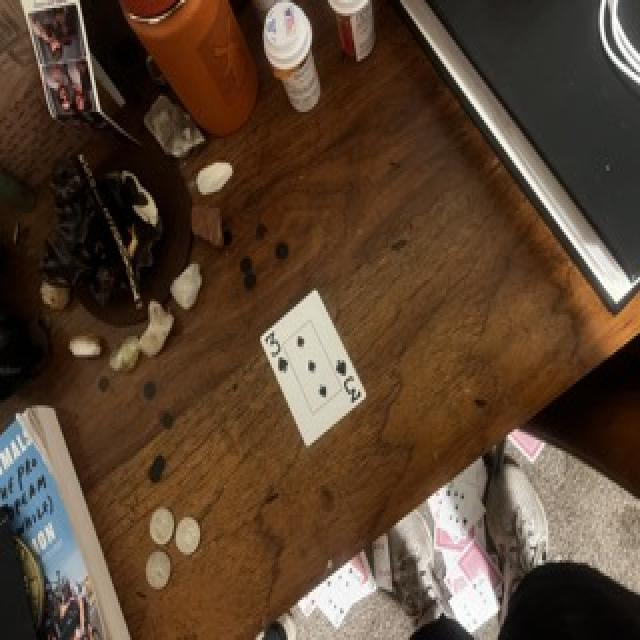3 of spades: (261, 290, 366, 445)
